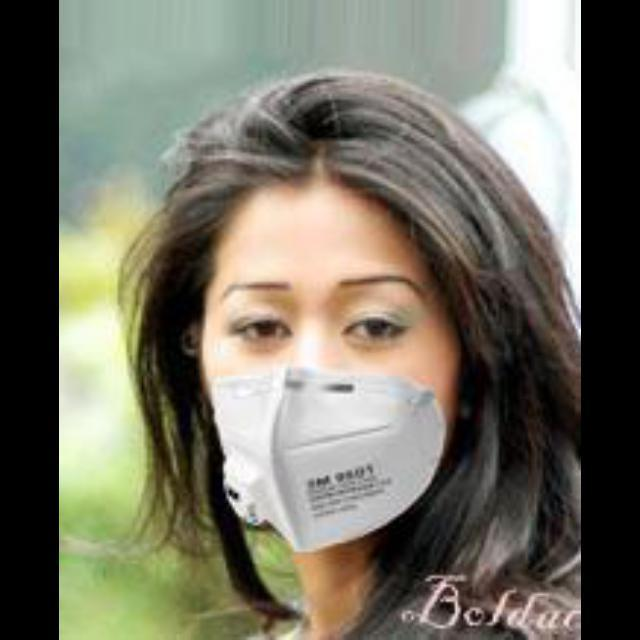suspicion: (190, 138, 492, 584)
